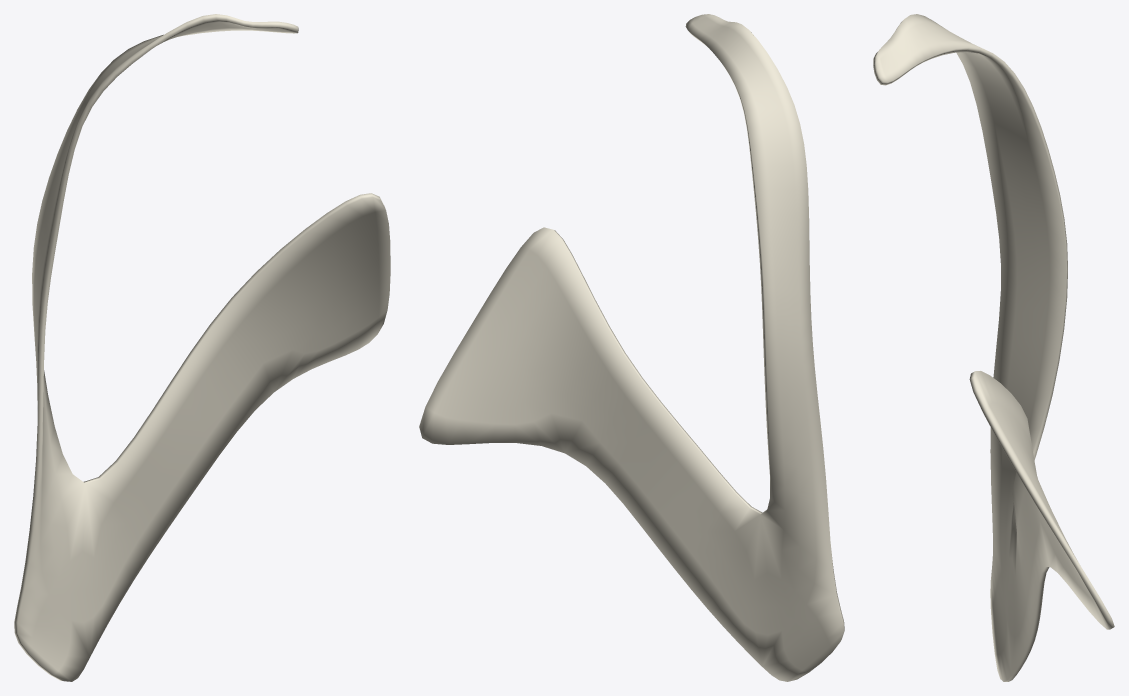
The picture shows the model from 3 angles, left to right: view 1: azimuth 30°, elevation 25°; view 2: azimuth 150°, elevation 25°; view 3: azimuth 270°, elevation 25°; orthographic projection. The views are drawn at different scales.
Parts seen in each view (by area): view 1: ZA_f102662ed61dbd29; view 2: ZA_f102662ed61dbd29; view 3: ZA_f102662ed61dbd29.
Part boxes in pixels (left/top/right/bottom): ZA_f102662ed61dbd29: left=14, top=14, right=390, bottom=681; ZA_f102662ed61dbd29: left=419, top=14, right=844, bottom=681; ZA_f102662ed61dbd29: left=873, top=14, right=1114, bottom=681.
Size of the model in its own units: 0.0466 by 0.0715 by 0.022.
